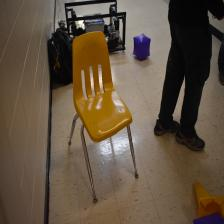cone: (194, 180, 224, 218)
cube: (133, 33, 151, 60), (193, 211, 224, 224)
